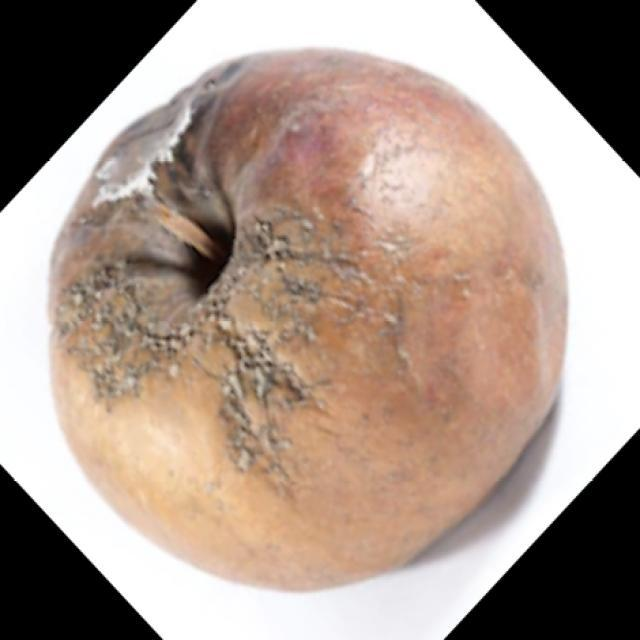Rotten: (80, 42, 555, 578)
